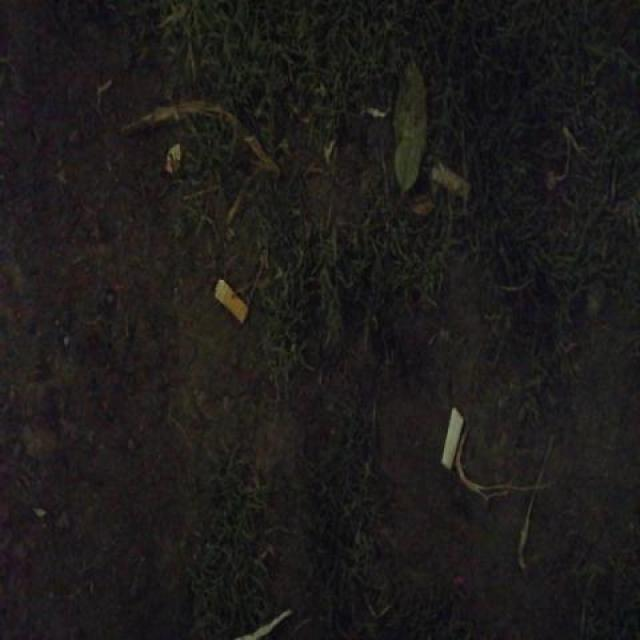non-organic waste: (427, 156, 476, 208), (209, 274, 252, 330), (438, 403, 466, 473)
